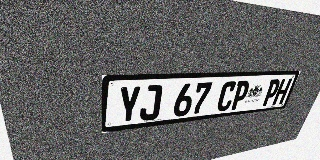6: (172, 83, 196, 117)
7: (190, 82, 213, 115)
C: (215, 81, 238, 112)
H: (272, 78, 292, 105)
J: (139, 85, 163, 121)
P: (229, 80, 251, 110), (261, 79, 282, 106)
Y: (117, 86, 141, 124)
